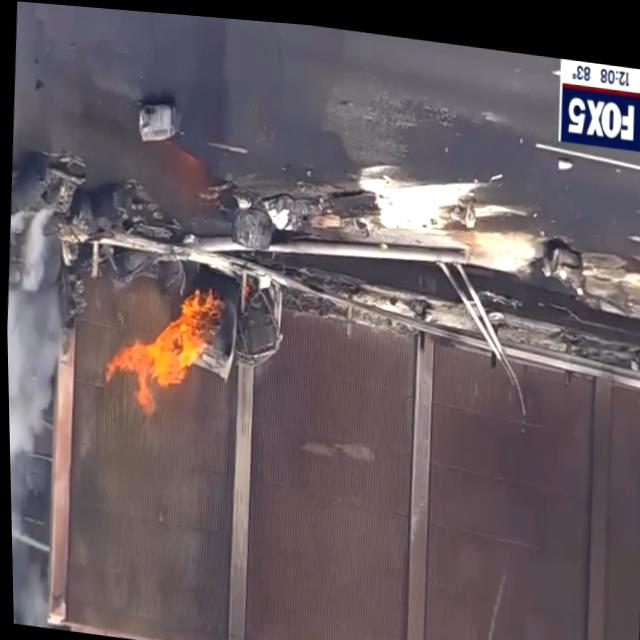fire: (99, 271, 223, 421)
